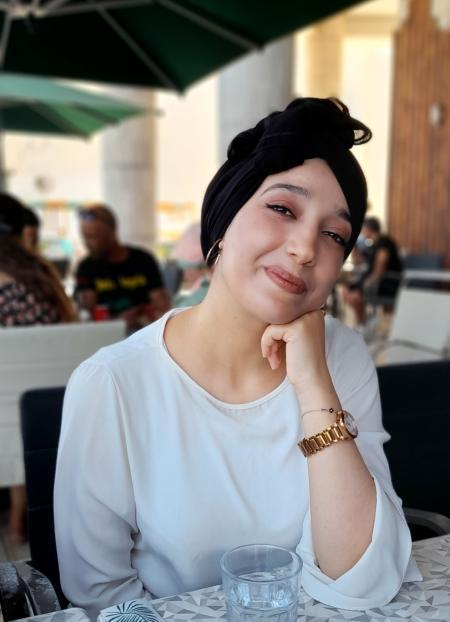without_mask: (233, 173, 356, 327)
